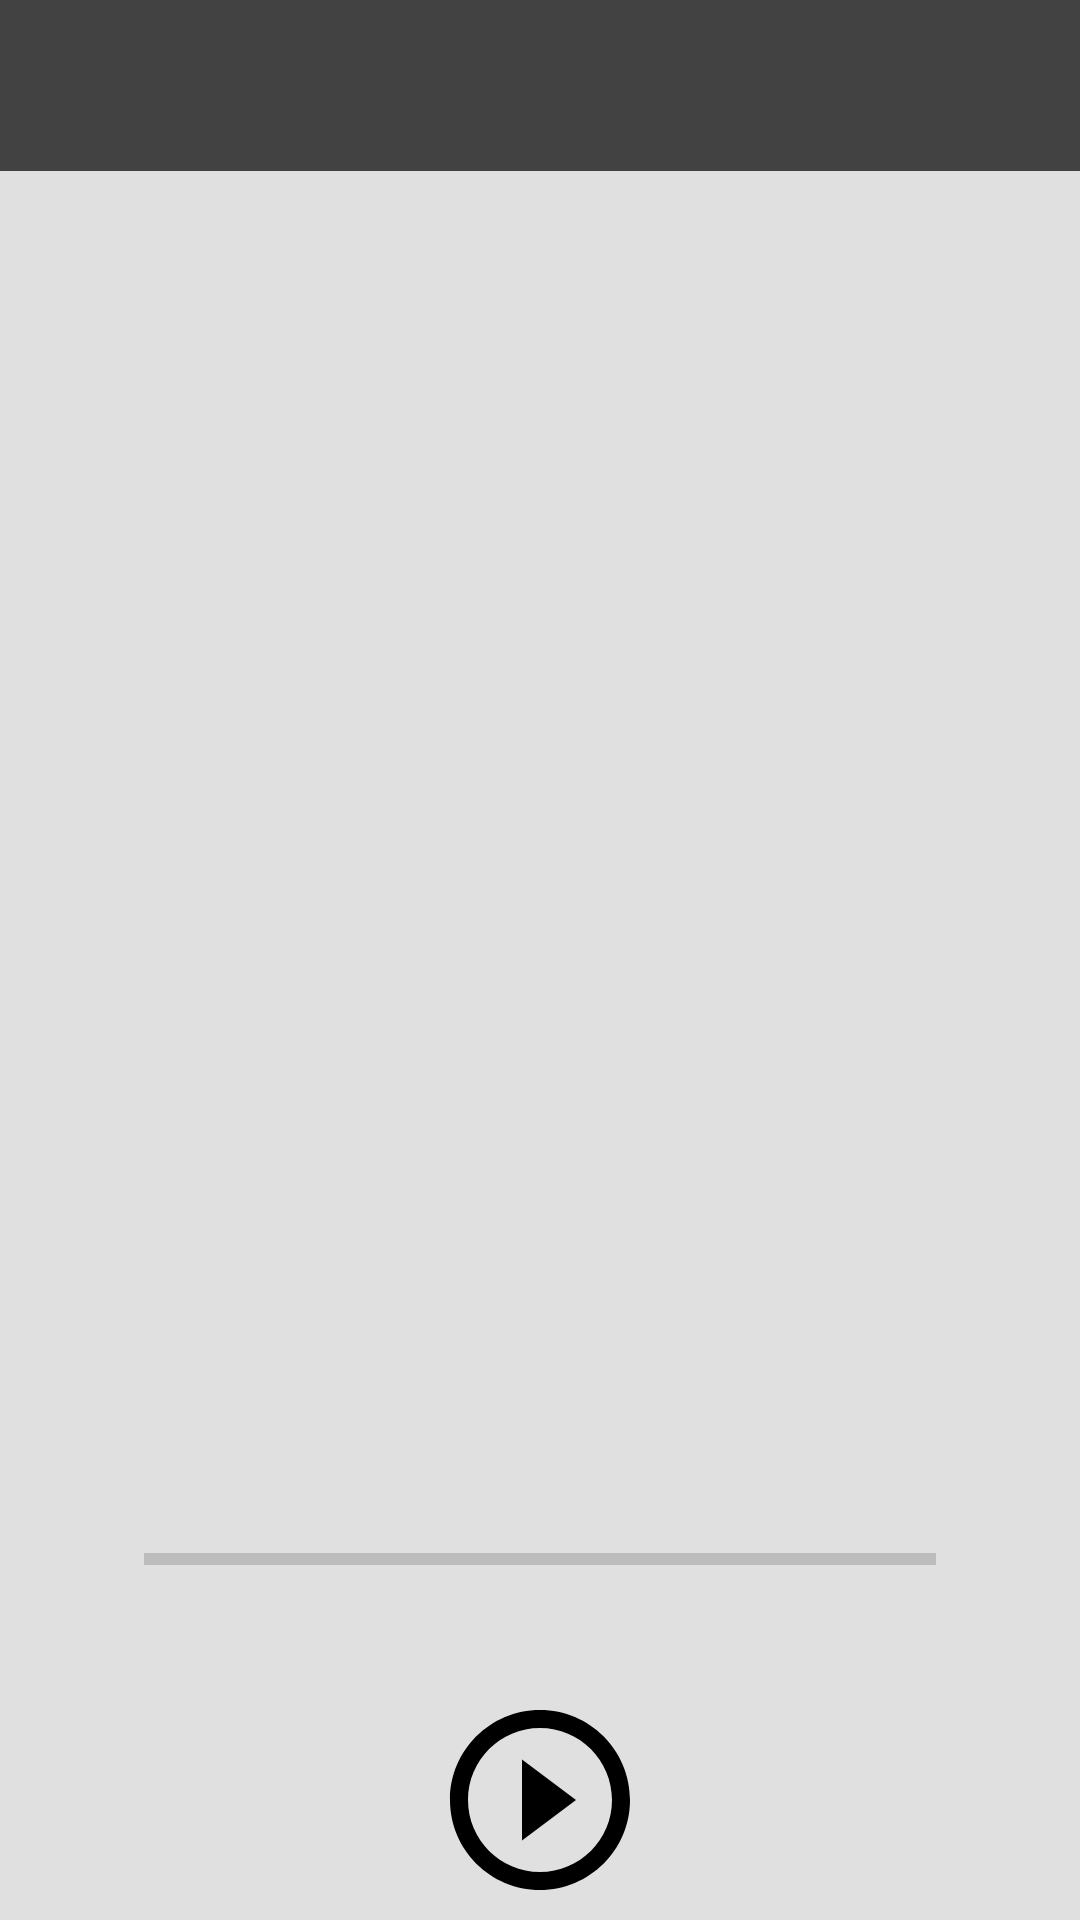

Icons on this 1080w x 1920h Android screen, each with the point to tap as [x,y]:
play circle: [540,1800]
